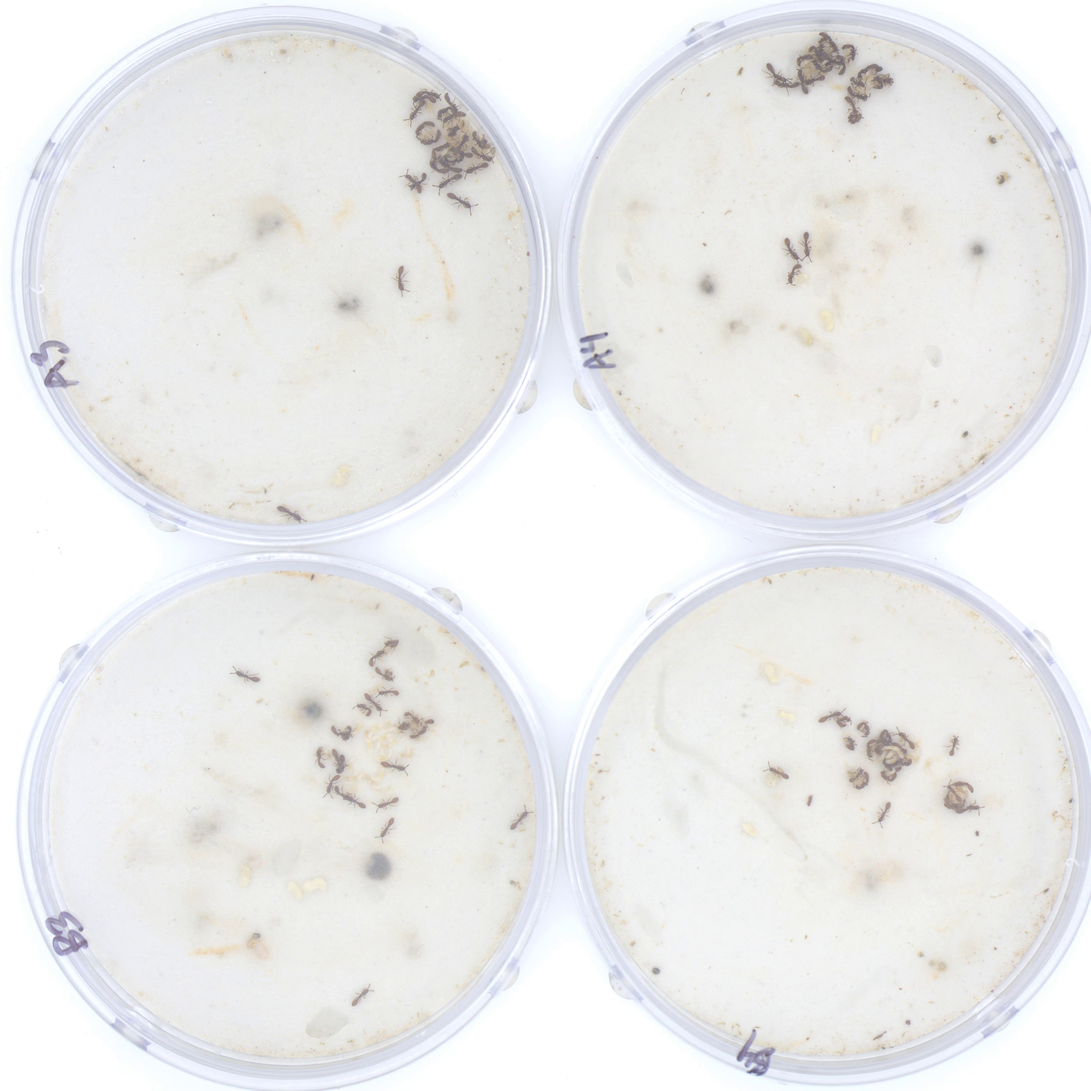brood: (416, 94, 497, 172), (867, 733, 921, 781), (796, 45, 854, 85), (332, 757, 387, 797), (363, 719, 407, 762), (851, 68, 884, 99), (945, 784, 975, 811), (396, 744, 420, 762), (923, 757, 932, 776)
